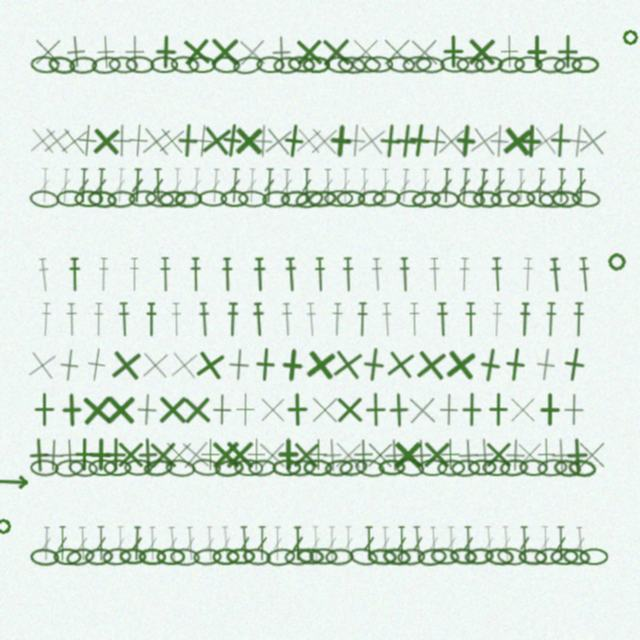chain: (232, 54, 264, 76), (354, 457, 386, 479), (294, 188, 325, 210), (525, 188, 556, 210), (65, 546, 96, 568), (348, 546, 379, 568), (496, 546, 528, 567), (47, 54, 77, 76), (338, 457, 369, 478), (394, 457, 425, 478), (29, 189, 60, 209), (165, 458, 196, 478), (265, 547, 296, 567), (91, 55, 121, 75), (337, 55, 367, 75), (553, 55, 583, 75), (87, 189, 117, 209), (307, 189, 337, 209), (411, 189, 441, 209), (456, 189, 486, 209), (571, 189, 601, 209), (54, 458, 84, 478), (68, 458, 98, 478), (143, 458, 173, 478), (214, 458, 244, 478), (324, 458, 354, 478), (567, 458, 597, 478), (417, 547, 447, 567), (537, 458, 568, 477), (497, 55, 526, 75), (158, 189, 187, 209), (553, 458, 582, 478), (242, 547, 271, 567), (562, 547, 591, 567), (30, 55, 60, 74), (125, 55, 155, 74), (170, 55, 200, 74), (211, 55, 241, 74), (351, 55, 381, 74), (386, 55, 416, 74), (402, 55, 432, 74), (474, 55, 504, 74), (128, 189, 158, 208), (490, 189, 520, 208), (191, 458, 221, 477), (499, 458, 529, 477), (84, 547, 114, 566), (102, 547, 132, 566), (430, 547, 460, 566), (464, 547, 494, 566), (484, 547, 514, 566), (534, 547, 564, 566), (287, 55, 316, 74), (325, 55, 354, 74), (357, 189, 386, 208), (372, 189, 401, 208), (296, 547, 325, 566), (382, 547, 411, 566), (449, 547, 478, 566), (108, 56, 138, 74), (415, 56, 445, 74), (280, 190, 310, 208), (472, 190, 502, 208), (539, 190, 569, 208), (286, 459, 316, 477), (170, 548, 200, 566), (284, 548, 314, 566), (367, 548, 397, 566), (273, 56, 302, 74), (456, 56, 485, 74), (537, 56, 566, 74), (107, 190, 136, 208), (145, 190, 174, 208), (238, 190, 267, 208), (431, 190, 460, 208), (551, 190, 580, 208), (30, 459, 59, 477), (451, 459, 480, 477), (30, 548, 59, 566), (193, 548, 222, 566), (325, 548, 354, 566), (518, 548, 547, 566), (396, 190, 426, 207), (69, 56, 97, 74), (174, 190, 202, 208), (262, 190, 290, 208), (248, 459, 276, 477), (437, 459, 465, 477), (397, 548, 425, 566), (256, 56, 285, 73), (364, 56, 393, 73), (440, 56, 469, 73), (514, 56, 543, 73), (74, 190, 103, 207), (198, 190, 227, 207), (220, 190, 249, 207), (324, 190, 353, 207), (336, 190, 365, 207), (507, 190, 536, 207), (88, 459, 117, 476), (103, 459, 132, 476), (124, 459, 153, 476), (234, 459, 263, 476), (272, 459, 301, 476), (303, 459, 332, 476), (418, 459, 447, 476), (468, 459, 497, 476), (519, 459, 548, 476), (53, 548, 82, 565), (156, 548, 185, 565), (226, 548, 255, 565), (309, 548, 338, 565), (550, 548, 579, 565), (579, 548, 608, 565), (150, 56, 178, 73), (188, 56, 216, 73), (302, 56, 330, 73), (571, 56, 599, 73), (56, 190, 84, 207), (378, 459, 406, 476), (482, 459, 510, 476), (119, 548, 147, 565), (138, 548, 166, 565), (212, 548, 240, 565)
double: (475, 168, 490, 204), (219, 526, 234, 561), (94, 168, 108, 203), (189, 168, 203, 203), (228, 168, 242, 203), (398, 168, 412, 203), (458, 168, 472, 203), (166, 526, 180, 561), (238, 526, 252, 561), (411, 526, 425, 561), (482, 526, 496, 561), (38, 168, 51, 203), (59, 168, 72, 203), (77, 168, 90, 203), (114, 168, 127, 203), (131, 168, 144, 203), (209, 168, 222, 203), (245, 168, 258, 203), (440, 168, 453, 203), (493, 168, 506, 203), (534, 168, 547, 203), (40, 526, 53, 561), (76, 526, 89, 561), (184, 526, 197, 561), (445, 526, 458, 561), (462, 526, 475, 561), (500, 526, 513, 561), (518, 526, 531, 561), (574, 526, 587, 561), (152, 168, 164, 203), (263, 168, 275, 203), (281, 168, 293, 203), (322, 168, 334, 203), (515, 168, 527, 203), (575, 168, 587, 203), (95, 526, 107, 561), (131, 526, 143, 561), (204, 526, 216, 561), (256, 526, 268, 561), (292, 526, 304, 561), (310, 526, 322, 561), (326, 526, 338, 561), (363, 526, 375, 561), (428, 526, 440, 561), (539, 526, 551, 561), (555, 526, 567, 561), (172, 168, 183, 203), (301, 168, 312, 203), (340, 168, 351, 203), (359, 168, 370, 203), (380, 168, 391, 203), (420, 168, 431, 203), (556, 168, 567, 203), (57, 526, 68, 561), (115, 526, 126, 561), (147, 526, 158, 561), (272, 526, 283, 561), (343, 526, 354, 561), (380, 526, 391, 561), (396, 526, 407, 561)
half_double: (547, 257, 564, 293), (36, 257, 52, 293), (283, 257, 299, 292), (252, 257, 267, 292), (427, 257, 442, 292), (520, 257, 535, 292), (577, 257, 592, 292), (197, 302, 212, 337), (225, 302, 240, 337), (251, 302, 266, 337), (304, 302, 319, 337), (435, 302, 450, 337), (313, 257, 327, 292), (341, 257, 355, 292), (370, 257, 384, 292), (398, 257, 412, 292), (490, 257, 504, 292), (39, 302, 53, 337), (117, 302, 131, 337), (280, 302, 294, 337), (330, 302, 344, 337), (380, 302, 394, 337), (490, 302, 504, 337), (518, 302, 532, 337), (544, 302, 558, 337), (68, 257, 81, 292), (97, 257, 110, 292), (128, 257, 141, 292), (159, 257, 172, 292), (189, 257, 202, 292), (221, 257, 234, 292), (458, 257, 471, 292), (65, 302, 78, 337), (92, 302, 105, 337), (145, 302, 158, 337), (170, 302, 183, 337), (356, 302, 369, 337), (408, 302, 421, 337), (464, 302, 477, 337), (572, 302, 585, 337)
noise: (606, 251, 628, 273), (0, 474, 30, 489), (621, 28, 639, 46), (0, 517, 12, 535)
single: (464, 121, 504, 161), (22, 345, 62, 385), (190, 345, 230, 385), (470, 345, 510, 385), (197, 121, 236, 160), (213, 121, 252, 160), (352, 121, 391, 160), (400, 121, 439, 160), (526, 121, 565, 160), (573, 121, 612, 160), (77, 345, 116, 384), (301, 345, 340, 384), (328, 345, 367, 384), (354, 345, 393, 384), (381, 345, 420, 384), (441, 345, 480, 384), (496, 345, 535, 384), (526, 345, 565, 384), (555, 345, 594, 384), (55, 122, 93, 160), (137, 122, 175, 160), (184, 122, 222, 160), (259, 122, 297, 160), (275, 122, 313, 160), (322, 122, 360, 160), (371, 122, 409, 160), (387, 122, 425, 160), (417, 122, 455, 160), (447, 122, 485, 160), (498, 122, 536, 160), (559, 122, 597, 160), (50, 346, 88, 384), (107, 346, 145, 384), (165, 346, 203, 384), (273, 346, 311, 384), (412, 346, 450, 384), (57, 33, 94, 70), (178, 33, 215, 70), (24, 122, 61, 159), (38, 122, 75, 159), (69, 122, 106, 159), (120, 122, 157, 159), (153, 122, 190, 159), (169, 122, 206, 159), (290, 122, 327, 159), (337, 122, 374, 159), (542, 122, 579, 159), (220, 346, 257, 383), (247, 346, 284, 383), (128, 391, 165, 428), (177, 436, 214, 473), (466, 436, 503, 473), (88, 34, 124, 70), (148, 34, 184, 70), (234, 34, 270, 70), (263, 34, 299, 70), (291, 34, 327, 70), (318, 34, 354, 70), (406, 34, 442, 70), (88, 123, 124, 159), (245, 123, 281, 159), (306, 123, 342, 159), (433, 123, 469, 159), (481, 123, 517, 159), (513, 123, 549, 159), (137, 347, 173, 383), (54, 392, 90, 428), (79, 392, 115, 428), (179, 392, 215, 428), (381, 392, 417, 428), (404, 392, 440, 428), (21, 437, 57, 473), (35, 437, 71, 473), (52, 437, 88, 473), (130, 437, 166, 473), (145, 437, 181, 473), (254, 437, 290, 473), (288, 437, 324, 473), (314, 437, 350, 473), (330, 437, 366, 473), (376, 437, 412, 473), (403, 437, 439, 473), (450, 437, 486, 473), (497, 437, 533, 473), (543, 437, 579, 473), (559, 437, 595, 473), (30, 34, 65, 69), (117, 34, 152, 69), (207, 34, 242, 69), (348, 34, 383, 69), (379, 34, 414, 69), (436, 34, 471, 69), (464, 34, 499, 69), (492, 34, 527, 69), (519, 34, 554, 69), (550, 34, 585, 69), (104, 123, 139, 158), (231, 123, 266, 158), (27, 392, 62, 427), (103, 392, 138, 427), (155, 392, 190, 427), (204, 392, 239, 427), (228, 392, 263, 427), (255, 392, 290, 427), (280, 392, 315, 427), (307, 392, 342, 427), (332, 392, 367, 427), (358, 392, 393, 427), (431, 392, 466, 427), (454, 392, 489, 427), (481, 392, 516, 427), (505, 392, 540, 427), (532, 392, 567, 427), (556, 392, 591, 427), (67, 437, 102, 472), (83, 437, 118, 472), (98, 437, 133, 472), (113, 437, 148, 472), (161, 437, 196, 472), (193, 437, 228, 472), (208, 437, 243, 472), (222, 437, 257, 472), (239, 437, 274, 472), (271, 437, 306, 472), (301, 437, 336, 472), (346, 437, 381, 472), (362, 437, 397, 472), (390, 437, 425, 472), (419, 437, 454, 472), (433, 437, 468, 472), (481, 437, 516, 472), (512, 437, 547, 472), (529, 437, 564, 472), (574, 437, 609, 472)
